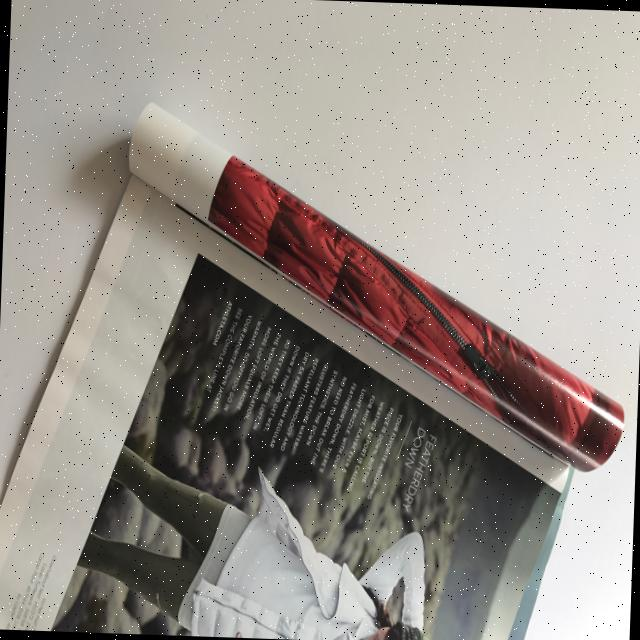paper: (0, 93, 634, 640)
